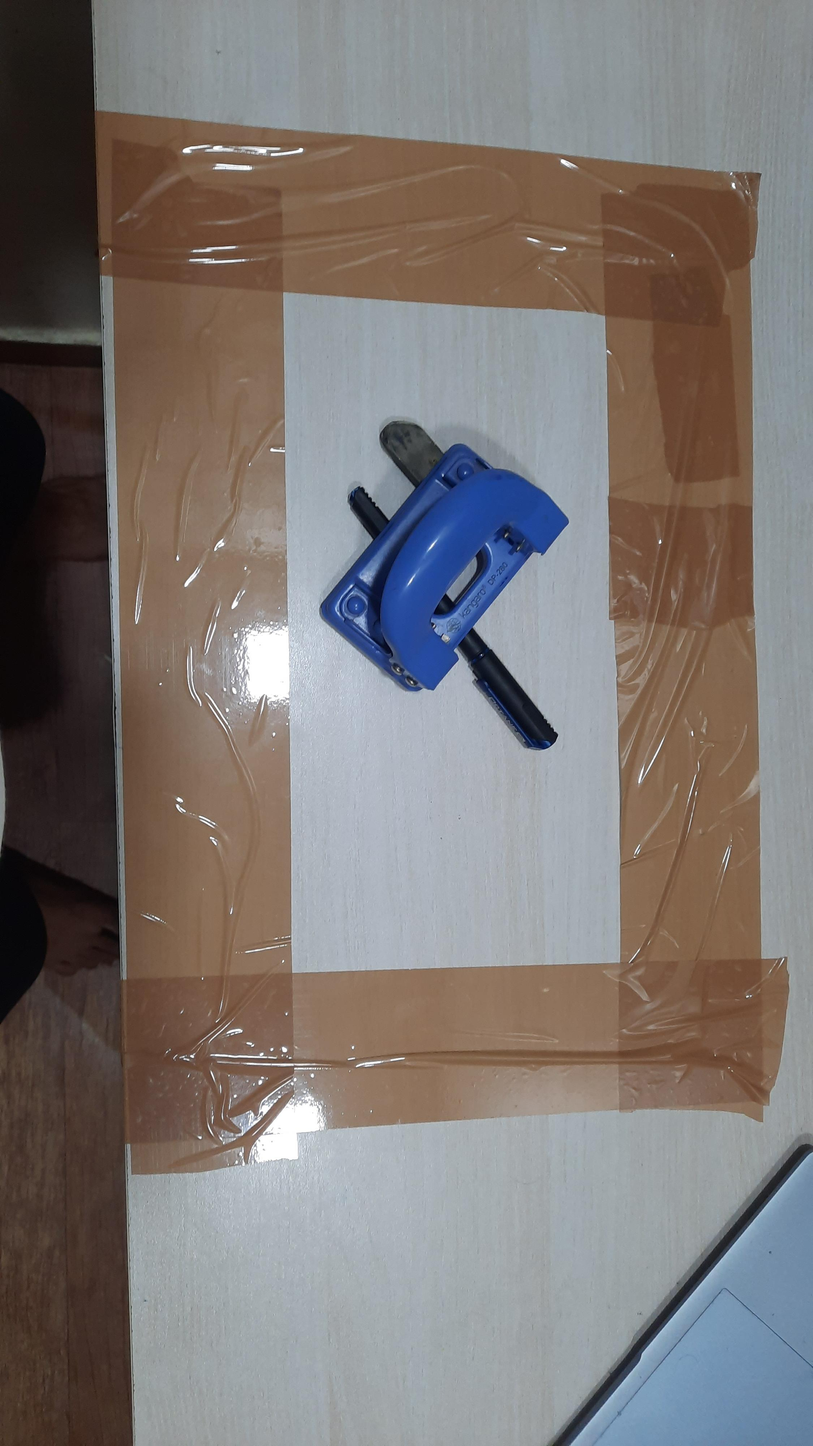Eraser: (379, 420, 449, 490)
Pen: (347, 483, 560, 751)
Punch: (318, 442, 570, 693)
